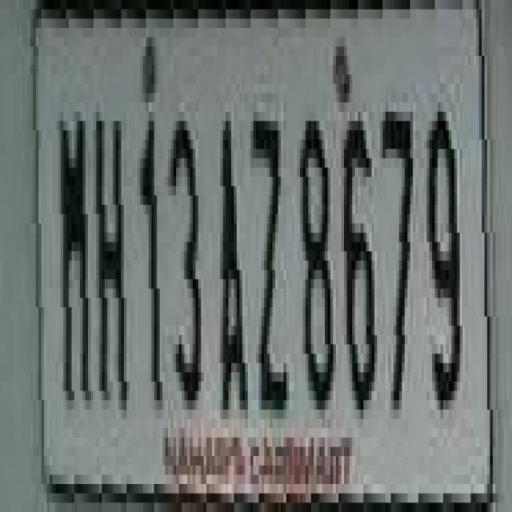number plate: (30, 0, 507, 484)
